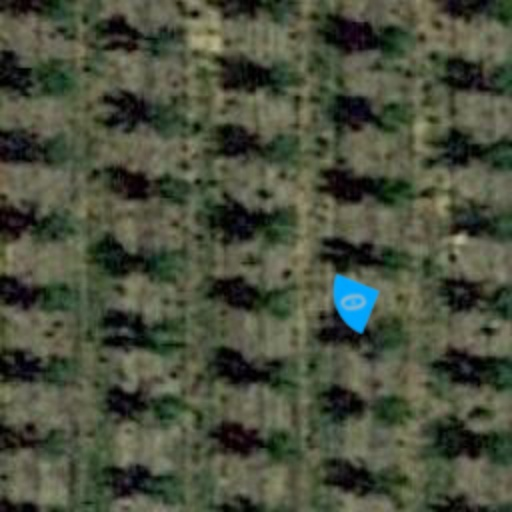quarter_circle: (312, 260, 396, 344)
